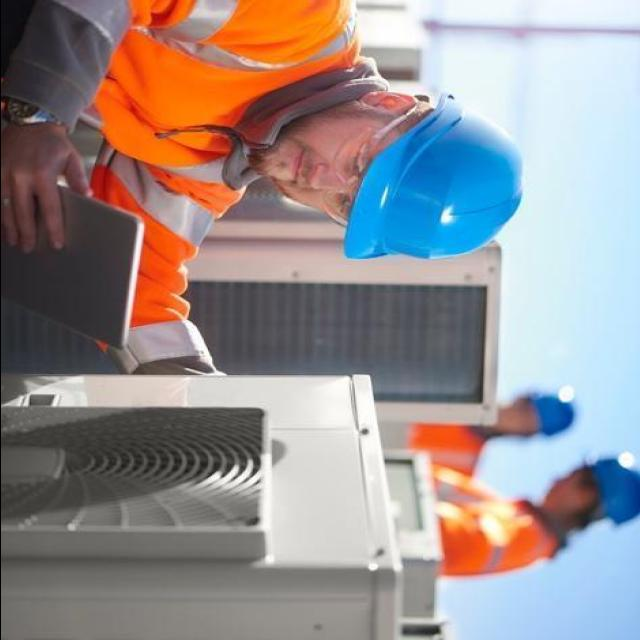helmet: (349, 84, 534, 282), (562, 444, 640, 541), (518, 384, 598, 442)
jacket: (45, 0, 346, 360), (422, 464, 558, 580)
